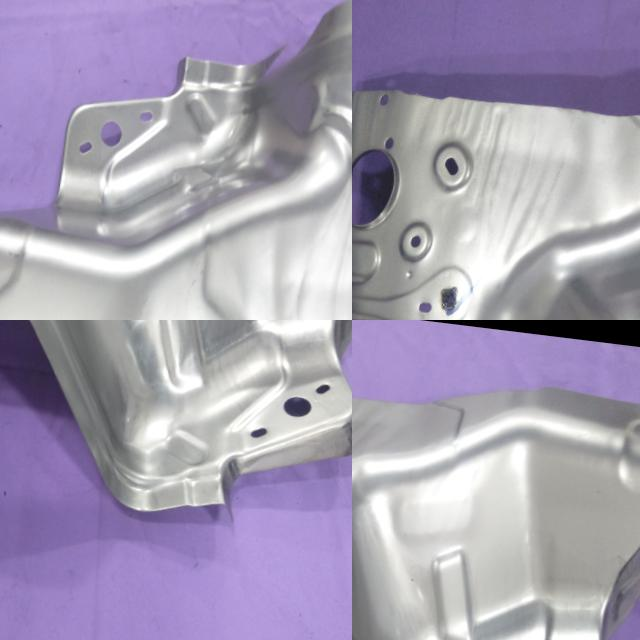Defect: (240, 12, 325, 86)
Healthy: (352, 330, 640, 640), (352, 53, 640, 320)
